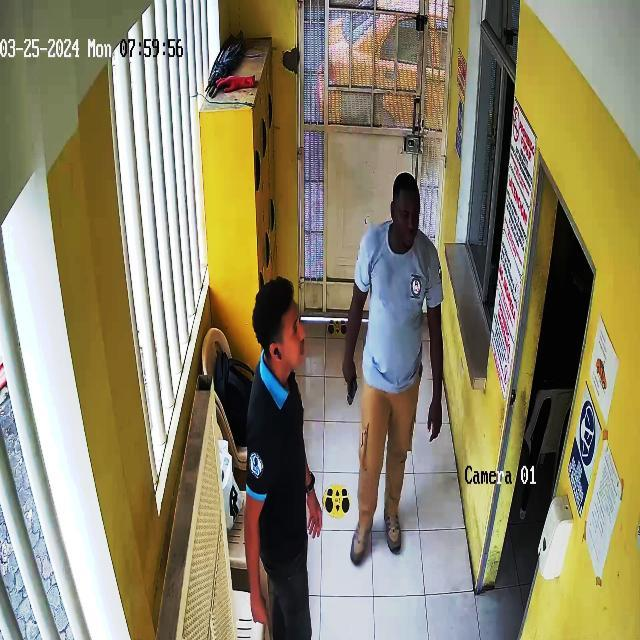Gun: (339, 365, 368, 418)
